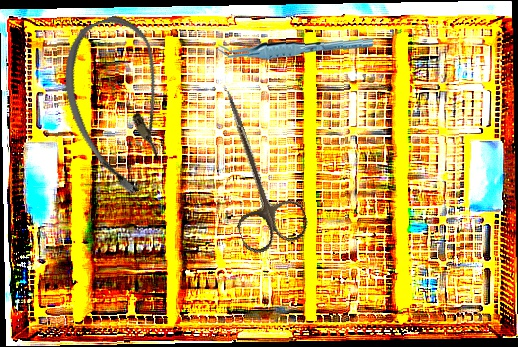Cannula: (44, 6, 199, 204)
Iris Scissors: (192, 80, 313, 258)
Tissue Forceps: (217, 29, 374, 67)
